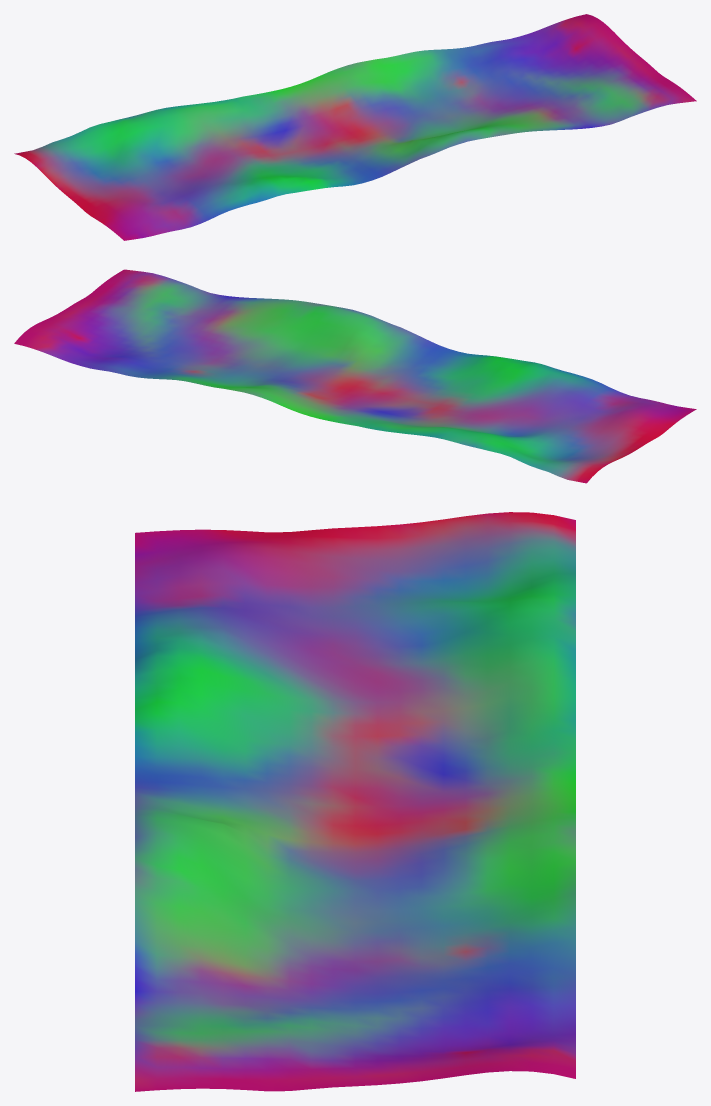
Rendered from mars_terrain_01.fbx.
3 views of the same model, one above another, from view 1: azimuth 30°, elevation 25°; view 2: azimuth 150°, elevation 25°; view 3: azimuth 270°, elevation 25° (orthographic). The views are drawn at different scales.
Visible parts, largest first — view 1: terrain; view 2: terrain; view 3: terrain.
Part boxes in pixels (<box>): terrain: <box>14,14,696,240</box>; terrain: <box>14,269,696,483</box>; terrain: <box>135,512,575,1091</box>.
Size of the model in its own units: 60 by 2.76 by 20.
